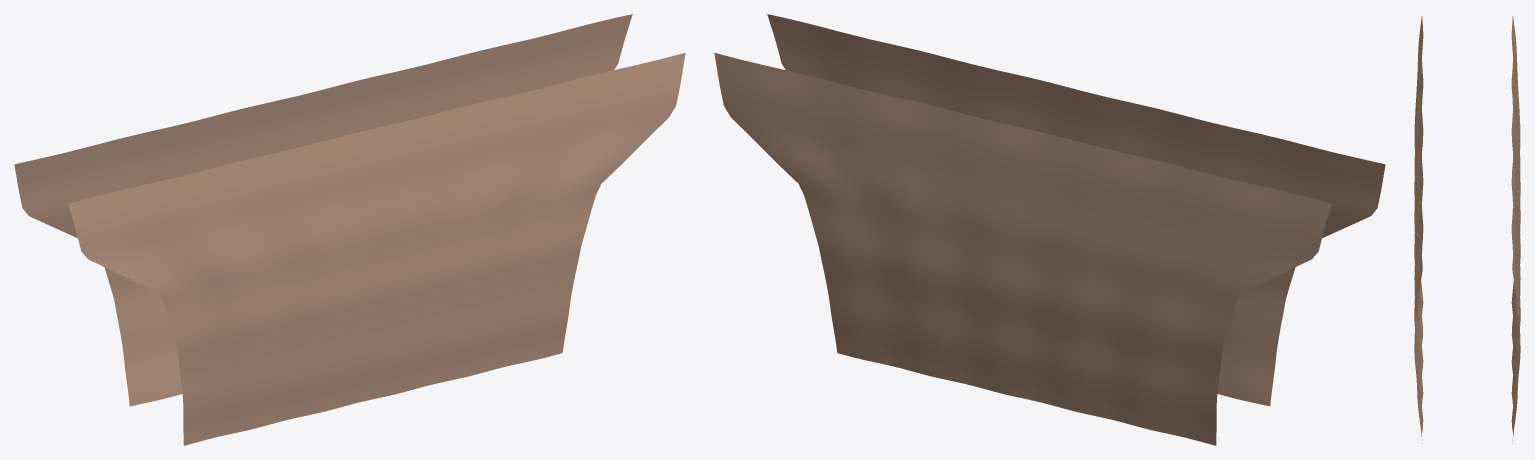
The model's file is clean.glb.
The picture shows the model from 3 angles, left to right: view 1: azimuth 30°, elevation 25°; view 2: azimuth 150°, elevation 25°; view 3: azimuth 270°, elevation 25°; orthographic projection. The views are drawn at different scales.
Visible parts, largest first — view 1: clean:manual-tshirt-03.front, clean:manual-tshirt-03.back; view 2: clean:manual-tshirt-03.back, clean:manual-tshirt-03.front; view 3: clean:manual-tshirt-03.front, clean:manual-tshirt-03.back.
Boxes of the visible parts, x1,y1,x2,y2 form: clean:manual-tshirt-03.front: (68, 52, 685, 445); clean:manual-tshirt-03.back: (14, 14, 632, 406); clean:manual-tshirt-03.back: (714, 52, 1331, 445); clean:manual-tshirt-03.front: (767, 14, 1385, 406); clean:manual-tshirt-03.front: (1414, 16, 1423, 443); clean:manual-tshirt-03.back: (1511, 16, 1520, 443).
Size of the model in its own units: 1.53 by 0.64 by 0.2702.
